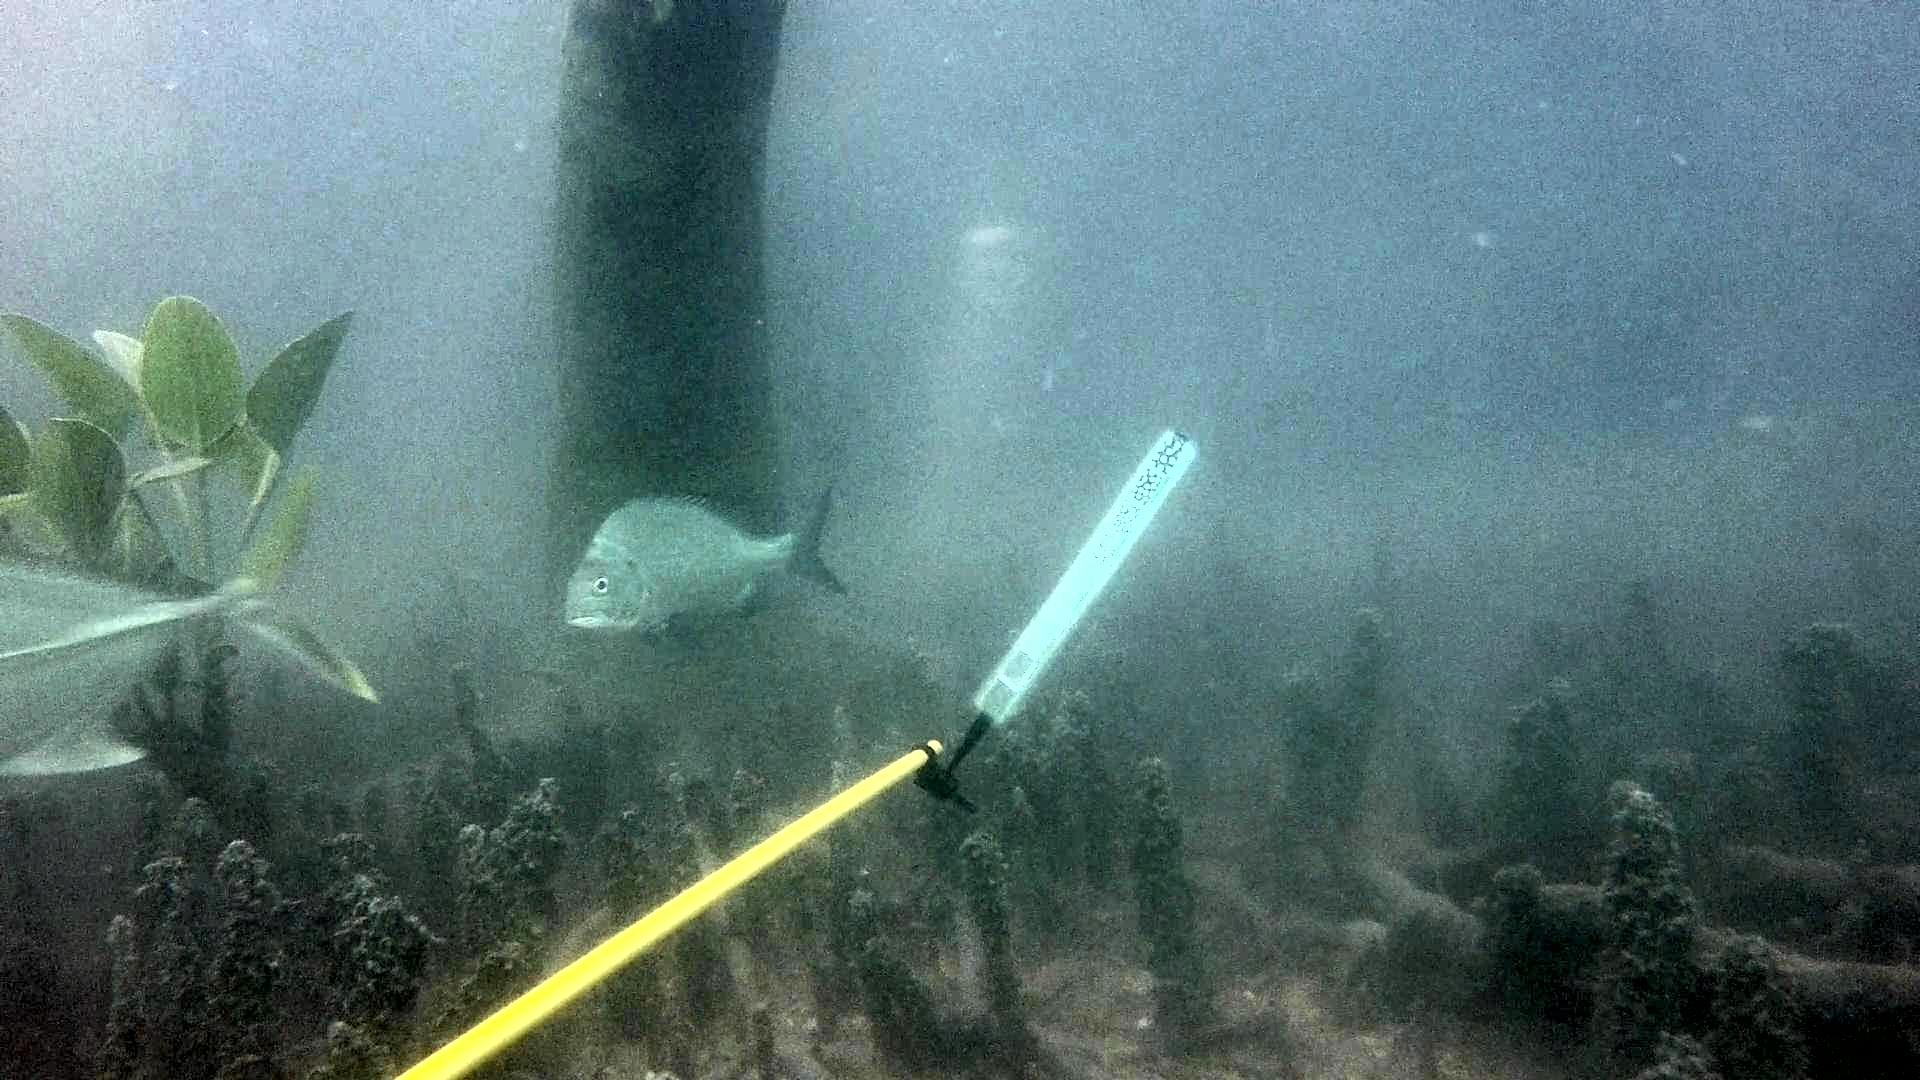acanthopagrus palmaris: (558, 464, 860, 654)
caranx: (0, 435, 393, 800)
